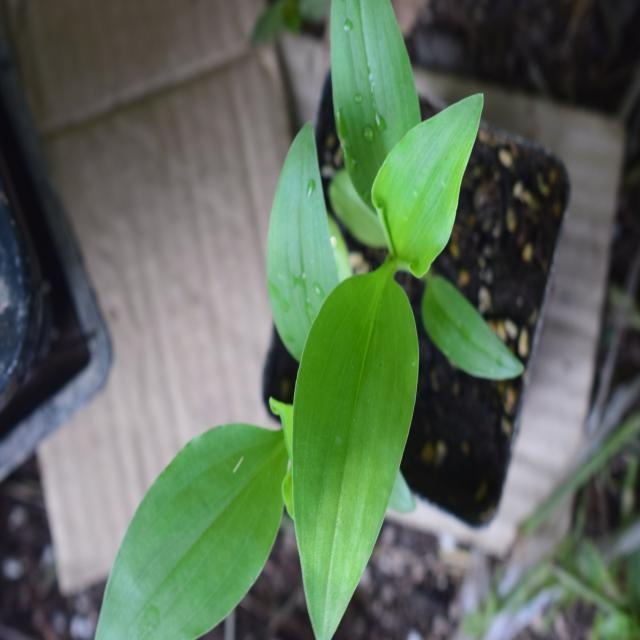Common Dayflower: (306, 22, 530, 616), (108, 359, 299, 625)
